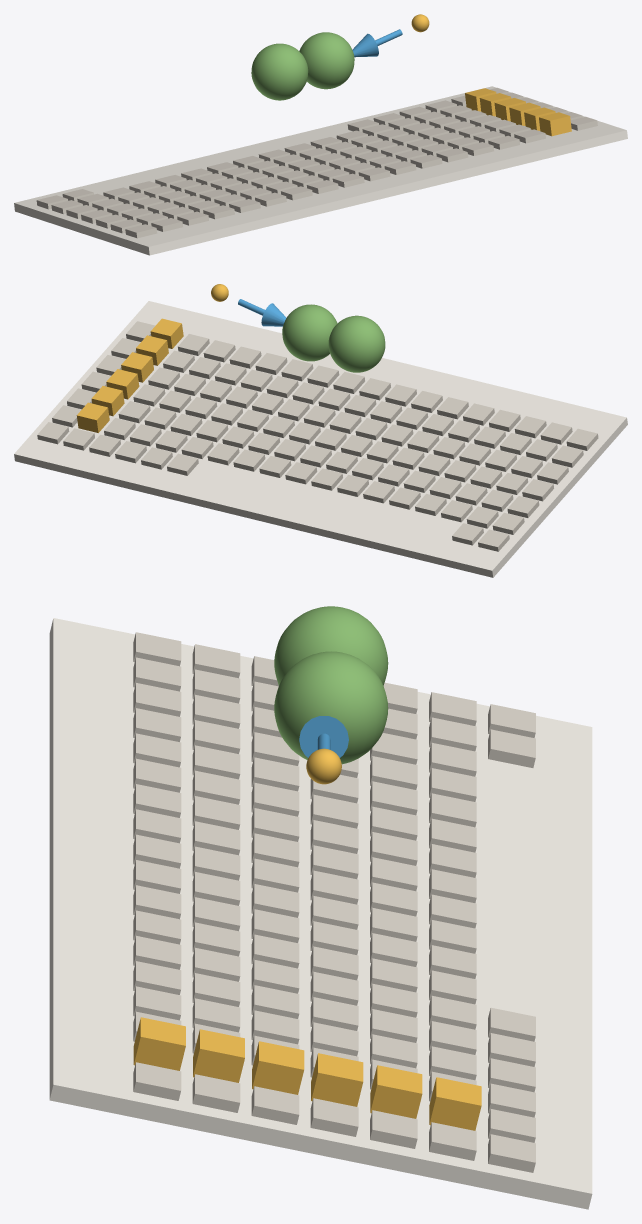
File: chem-periodic-halogen.glb
3 views of the same model, one above another, from view 1: azimuth 30°, elevation 25°; view 2: azimuth 150°, elevation 25°; view 3: azimuth 270°, elevation 25° (orthographic). The views are drawn at different scales.
Visible parts, largest first — view 1: table-backing, diatomic-halogen-left, diatomic-halogen-right, highlight-cell-17-7, gains-electron-arrow-head, highlight-cell-17-5, highlight-cell-17-2, highlight-cell-17-4, highlight-cell-17-6, highlight-cell-17-3; view 2: table-backing, diatomic-halogen-left, diatomic-halogen-right, highlight-cell-17-2, highlight-cell-17-4, highlight-cell-17-6, highlight-cell-17-3, highlight-cell-17-5, highlight-cell-17-7, cell-1-1, cell-14-1, cell-17-1 (+103 smaller); view 3: table-backing, diatomic-halogen-right, diatomic-halogen-left, highlight-cell-17-2, highlight-cell-17-7, highlight-cell-17-3, highlight-cell-17-4, highlight-cell-17-5, highlight-cell-17-6, cell-18-6, cell-18-7, cell-18-4 (+96 smaller).
Boxes of the visible parts, bbox=[...] form: table-backing: bbox=[14, 86, 627, 255]; diatomic-halogen-left: bbox=[251, 43, 308, 100]; diatomic-halogen-right: bbox=[299, 32, 354, 89]; highlight-cell-17-7: bbox=[539, 112, 571, 136]; gains-electron-arrow-head: bbox=[352, 33, 378, 57]; highlight-cell-17-5: bbox=[509, 102, 540, 125]; highlight-cell-17-2: bbox=[465, 88, 496, 111]; highlight-cell-17-4: bbox=[494, 98, 525, 121]; highlight-cell-17-6: bbox=[524, 107, 555, 130]; highlight-cell-17-3: bbox=[479, 93, 511, 116]; table-backing: bbox=[14, 301, 627, 577]; diatomic-halogen-left: bbox=[328, 315, 385, 372]; diatomic-halogen-right: bbox=[282, 304, 337, 361]; highlight-cell-17-2: bbox=[76, 402, 109, 432]; highlight-cell-17-4: bbox=[106, 369, 139, 399]; highlight-cell-17-6: bbox=[136, 335, 168, 365]; highlight-cell-17-3: bbox=[91, 386, 124, 416]; highlight-cell-17-5: bbox=[121, 352, 153, 382]; highlight-cell-17-7: bbox=[150, 318, 183, 348]; cell-1-1: bbox=[478, 529, 509, 551]; cell-14-1: bbox=[141, 447, 172, 469]; cell-17-1: bbox=[63, 428, 94, 450]; table-backing: bbox=[49, 618, 592, 1209]; diatomic-halogen-right: bbox=[274, 651, 388, 764]; diatomic-halogen-left: bbox=[274, 606, 388, 685]; highlight-cell-17-2: bbox=[429, 1077, 481, 1130]; highlight-cell-17-7: bbox=[133, 1017, 185, 1070]; highlight-cell-17-3: bbox=[370, 1065, 422, 1118]; highlight-cell-17-4: bbox=[311, 1053, 363, 1106]; highlight-cell-17-5: bbox=[252, 1041, 304, 1094]; highlight-cell-17-6: bbox=[193, 1029, 244, 1082]; cell-18-6: bbox=[192, 1074, 240, 1112]; cell-18-7: bbox=[133, 1062, 181, 1100]; cell-18-4: bbox=[310, 1098, 358, 1136].
Size of what is drawn, in the model's own units: 3.1 by 1.01 by 1.52.
